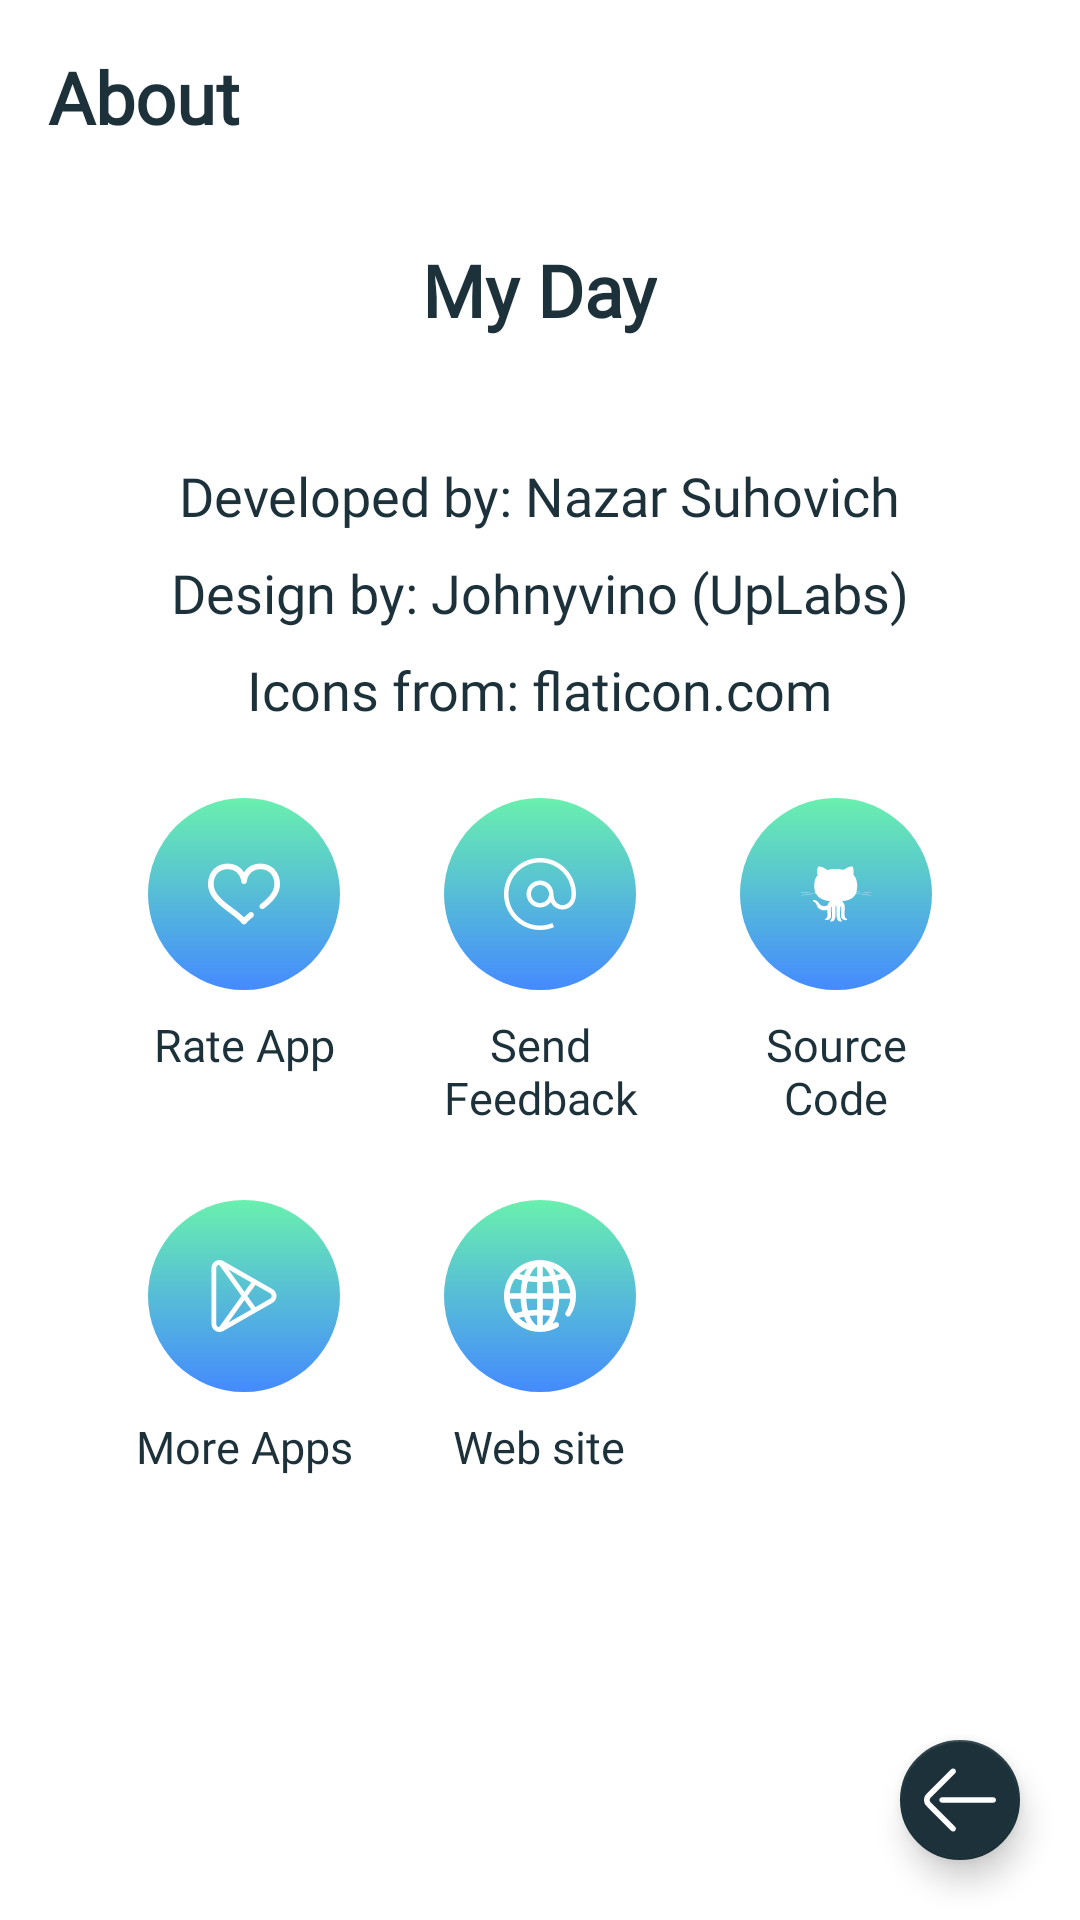

Screen size 1080×1920. Icon name, then its center in pixels as [x,y]:
arrow back: [961,1806]
earth grid: [540,1296]
email: [540,894]
heart: [244,894]
